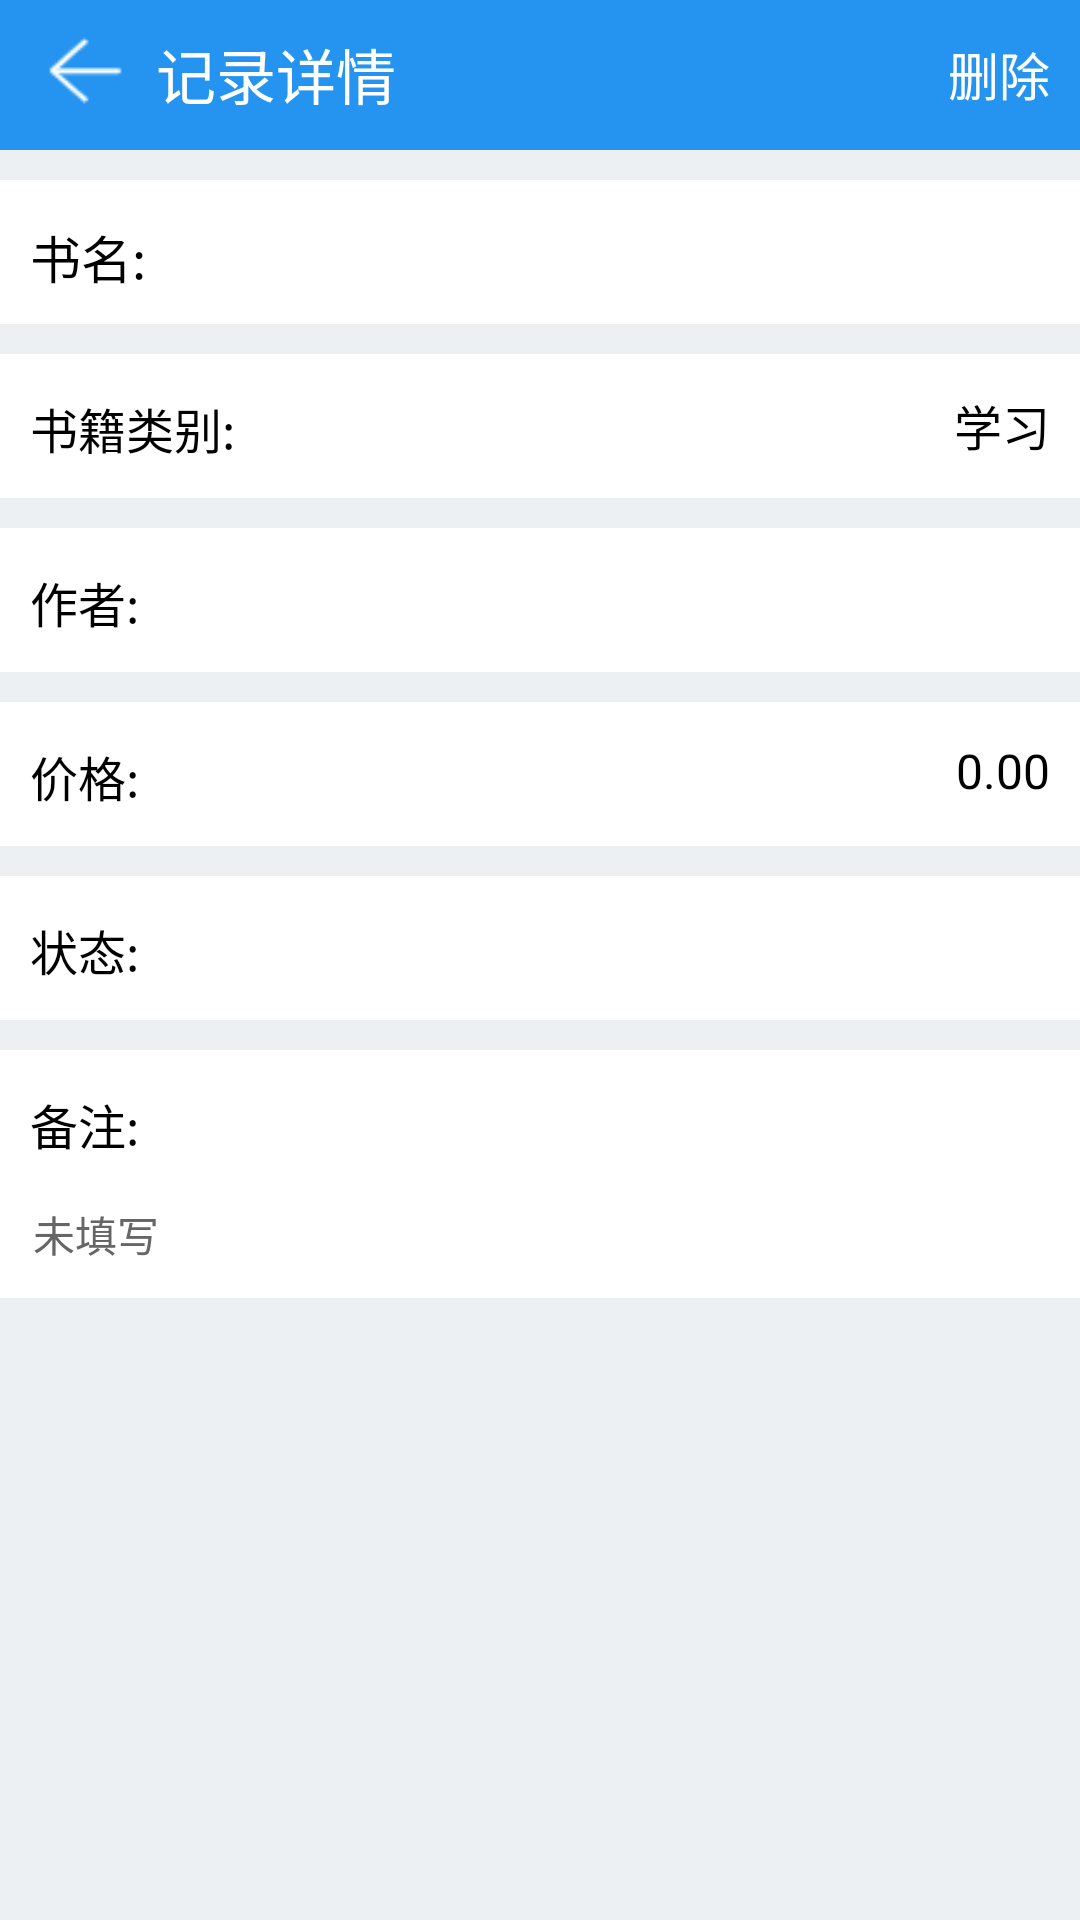

Point at icon controls on the screen. Image size 1080×1920, points as [x,y].
return key: [85,71]
